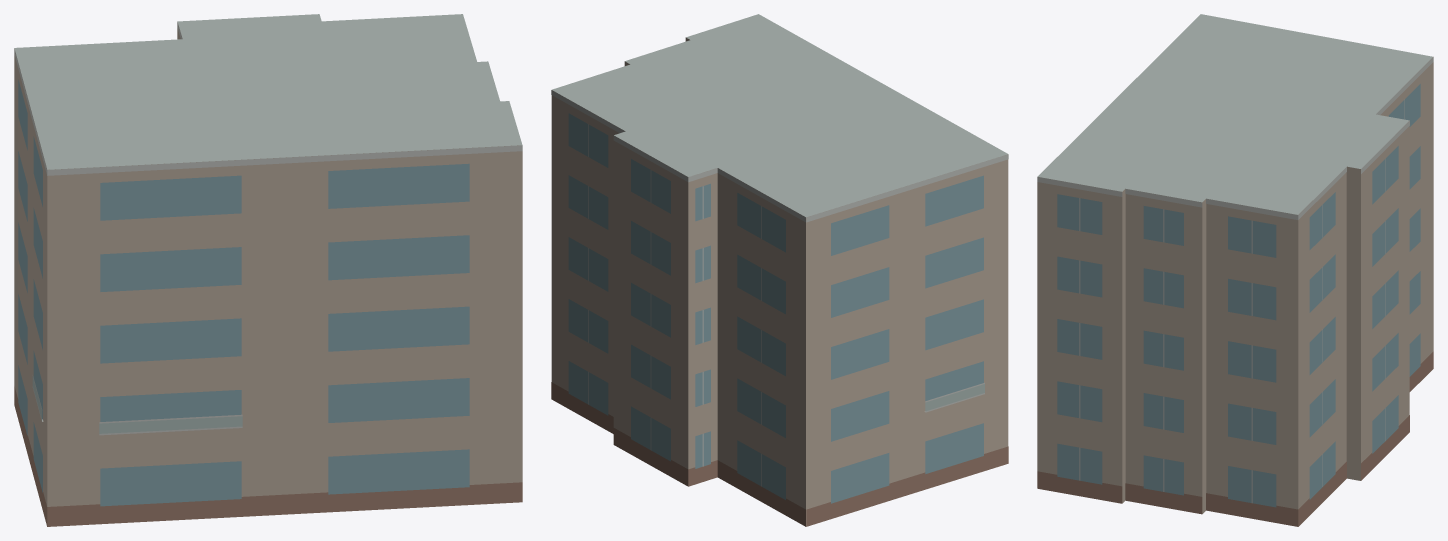
File: survey-upis-33040802.glb
3 renders of one model, left to right at view 1: azimuth 30°, elevation 25°; view 2: azimuth 150°, elevation 25°; view 3: azimuth 270°, elevation 25°, orthographic. The views are drawn at different scales.
Parts seen in each view (by area): view 1: survey-upis-33040802.tmp; view 2: survey-upis-33040802.tmp; view 3: survey-upis-33040802.tmp.
Part boxes in pixels (x1,y1,x2,y2): survey-upis-33040802.tmp: (14, 14, 522, 526); survey-upis-33040802.tmp: (551, 14, 1008, 526); survey-upis-33040802.tmp: (1037, 14, 1433, 526).
Size of the model in its own units: 20.04 by 14.5 by 16.7.
